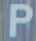Parking: (7, 2, 32, 39)
